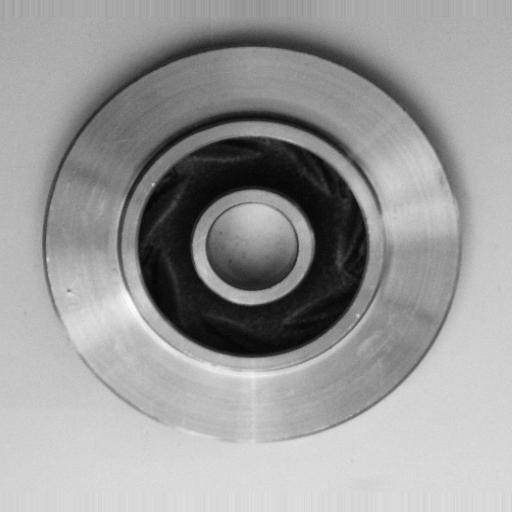unpolished_casting: (43, 42, 463, 447)
